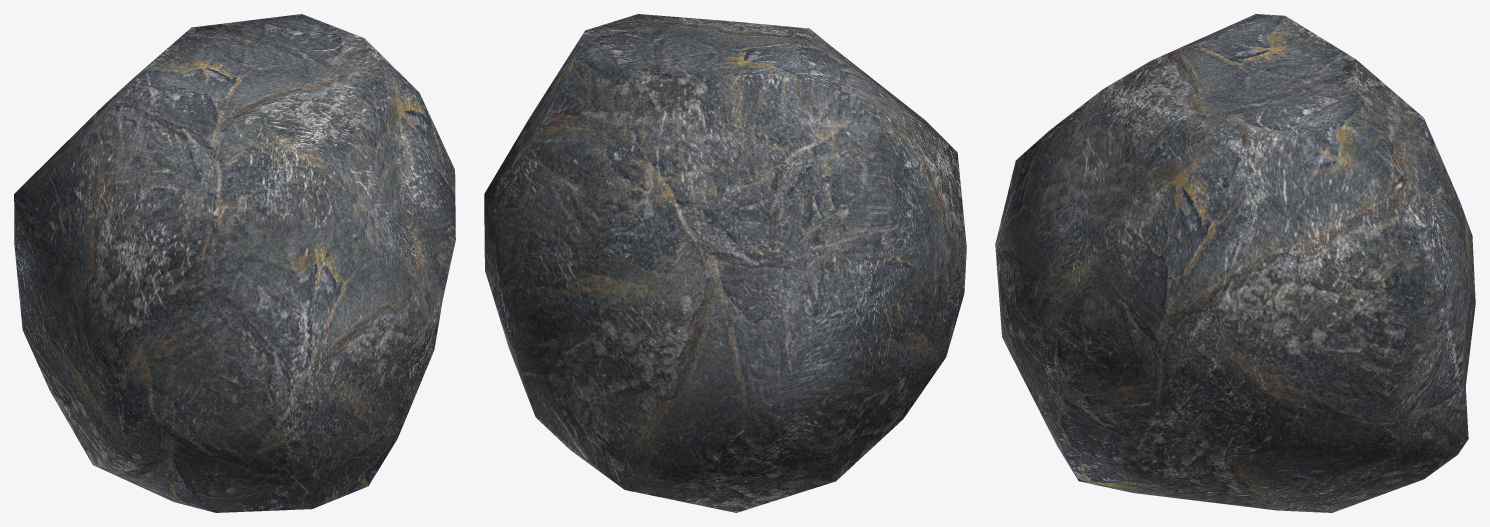
File: Rock_1.glb
The picture shows the model from 3 angles, left to right: view 1: azimuth 30°, elevation 25°; view 2: azimuth 150°, elevation 25°; view 3: azimuth 270°, elevation 25°; orthographic projection. The views are drawn at different scales.
Parts seen in each view (by area): view 1: rock_01; view 2: rock_01; view 3: rock_01.
Part boxes in pixels (box(x1,y1,x2,y2)): rock_01: box(14, 14, 455, 512); rock_01: box(484, 14, 966, 512); rock_01: box(995, 14, 1475, 512).
Bounding box in the file's own units: 0.9399 × 1 × 0.9474.
1 material, 1 textured.
